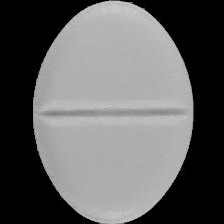33342-032: (0, 0, 224, 224)
